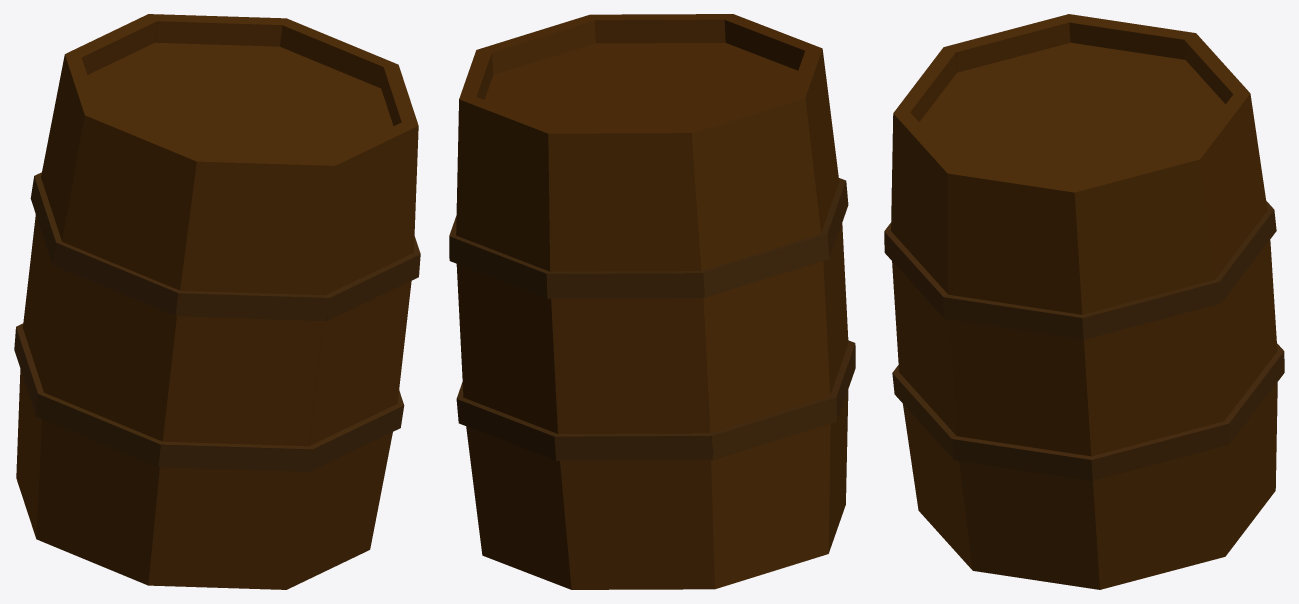
File: barrel.obj
The picture shows the model from 3 angles, left to right: view 1: azimuth 30°, elevation 25°; view 2: azimuth 150°, elevation 25°; view 3: azimuth 270°, elevation 25°; orthographic projection. The views are drawn at different scales.
Parts seen in each view (by area): view 1: barrel; view 2: barrel; view 3: barrel.
Part boxes in pixels (x1,y1,x2,y2): barrel: [14, 14, 420, 589]; barrel: [449, 14, 855, 589]; barrel: [884, 14, 1284, 589].
Size of the model in its own units: 0.39 by 0.4739 by 0.385.
1 material, 1 textured.
